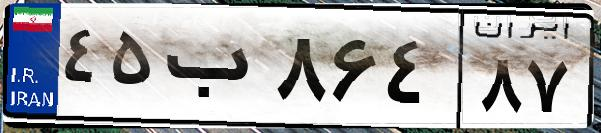4: (385, 28, 445, 110), (57, 26, 110, 100)
5: (110, 28, 158, 98)
6: (330, 28, 385, 110)
7: (525, 38, 570, 115)
8: (270, 28, 330, 110), (475, 38, 525, 113)
ب: (158, 20, 270, 120)
